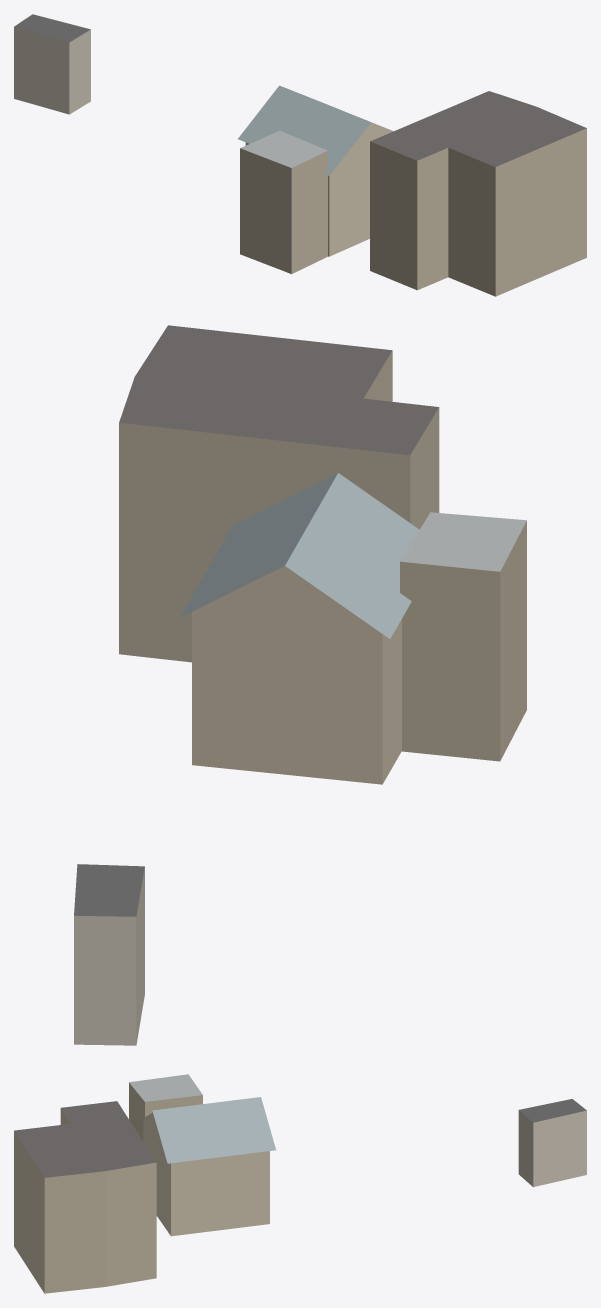
The picture shows the model from 3 angles, top to bottom: view 1: azimuth 30°, elevation 25°; view 2: azimuth 150°, elevation 25°; view 3: azimuth 270°, elevation 25°; orthographic projection. The views are drawn at different scales.
Visible parts, largest first — view 1: tuile; view 2: tuile; view 3: tuile.
Part boxes in pixels (x1=…): tuile: x1=14, y1=14, x2=586, y2=296; tuile: x1=74, y1=325, x2=526, y2=1045; tuile: x1=14, y1=1074, x2=586, y2=1293.
Size of the model in its own units: 19.7 by 8.79 by 39.4.
